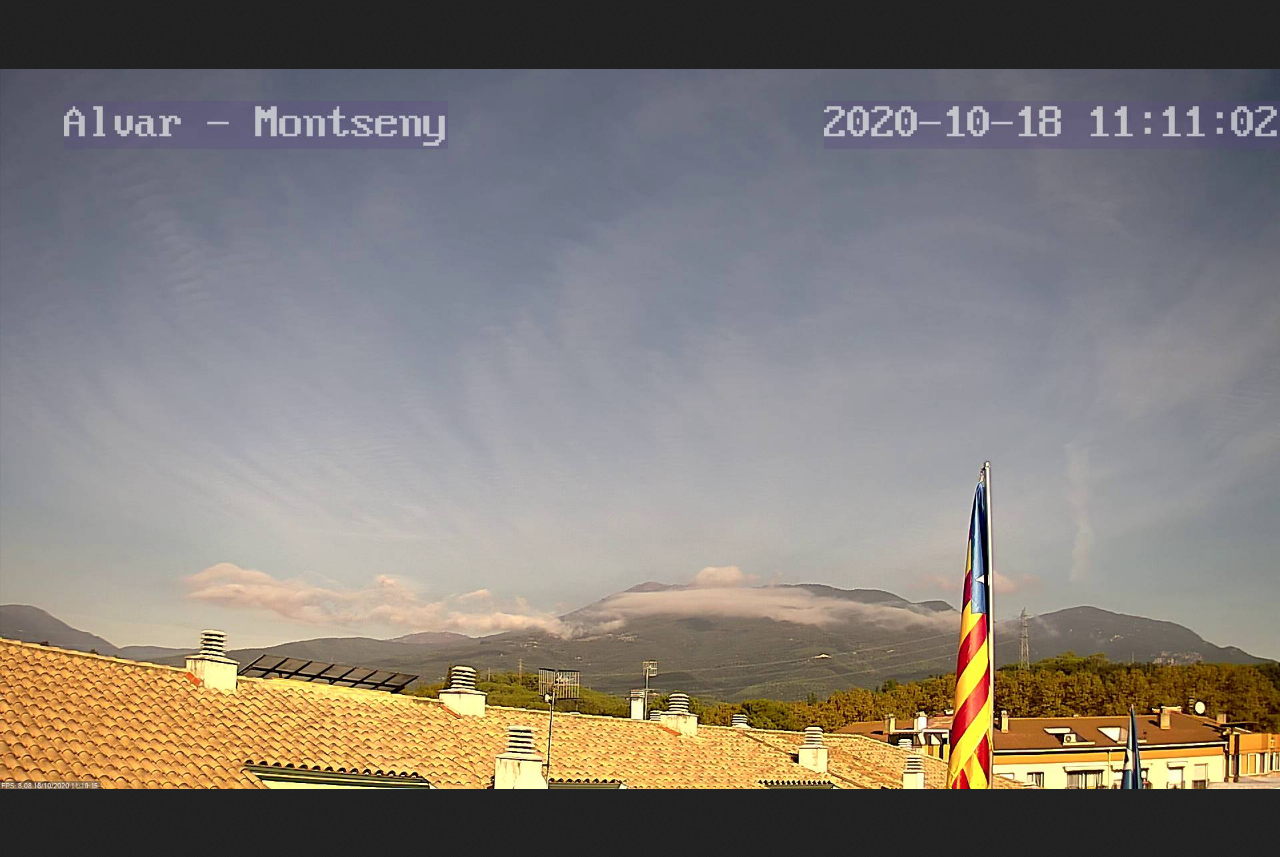no: (954, 478, 996, 791)
